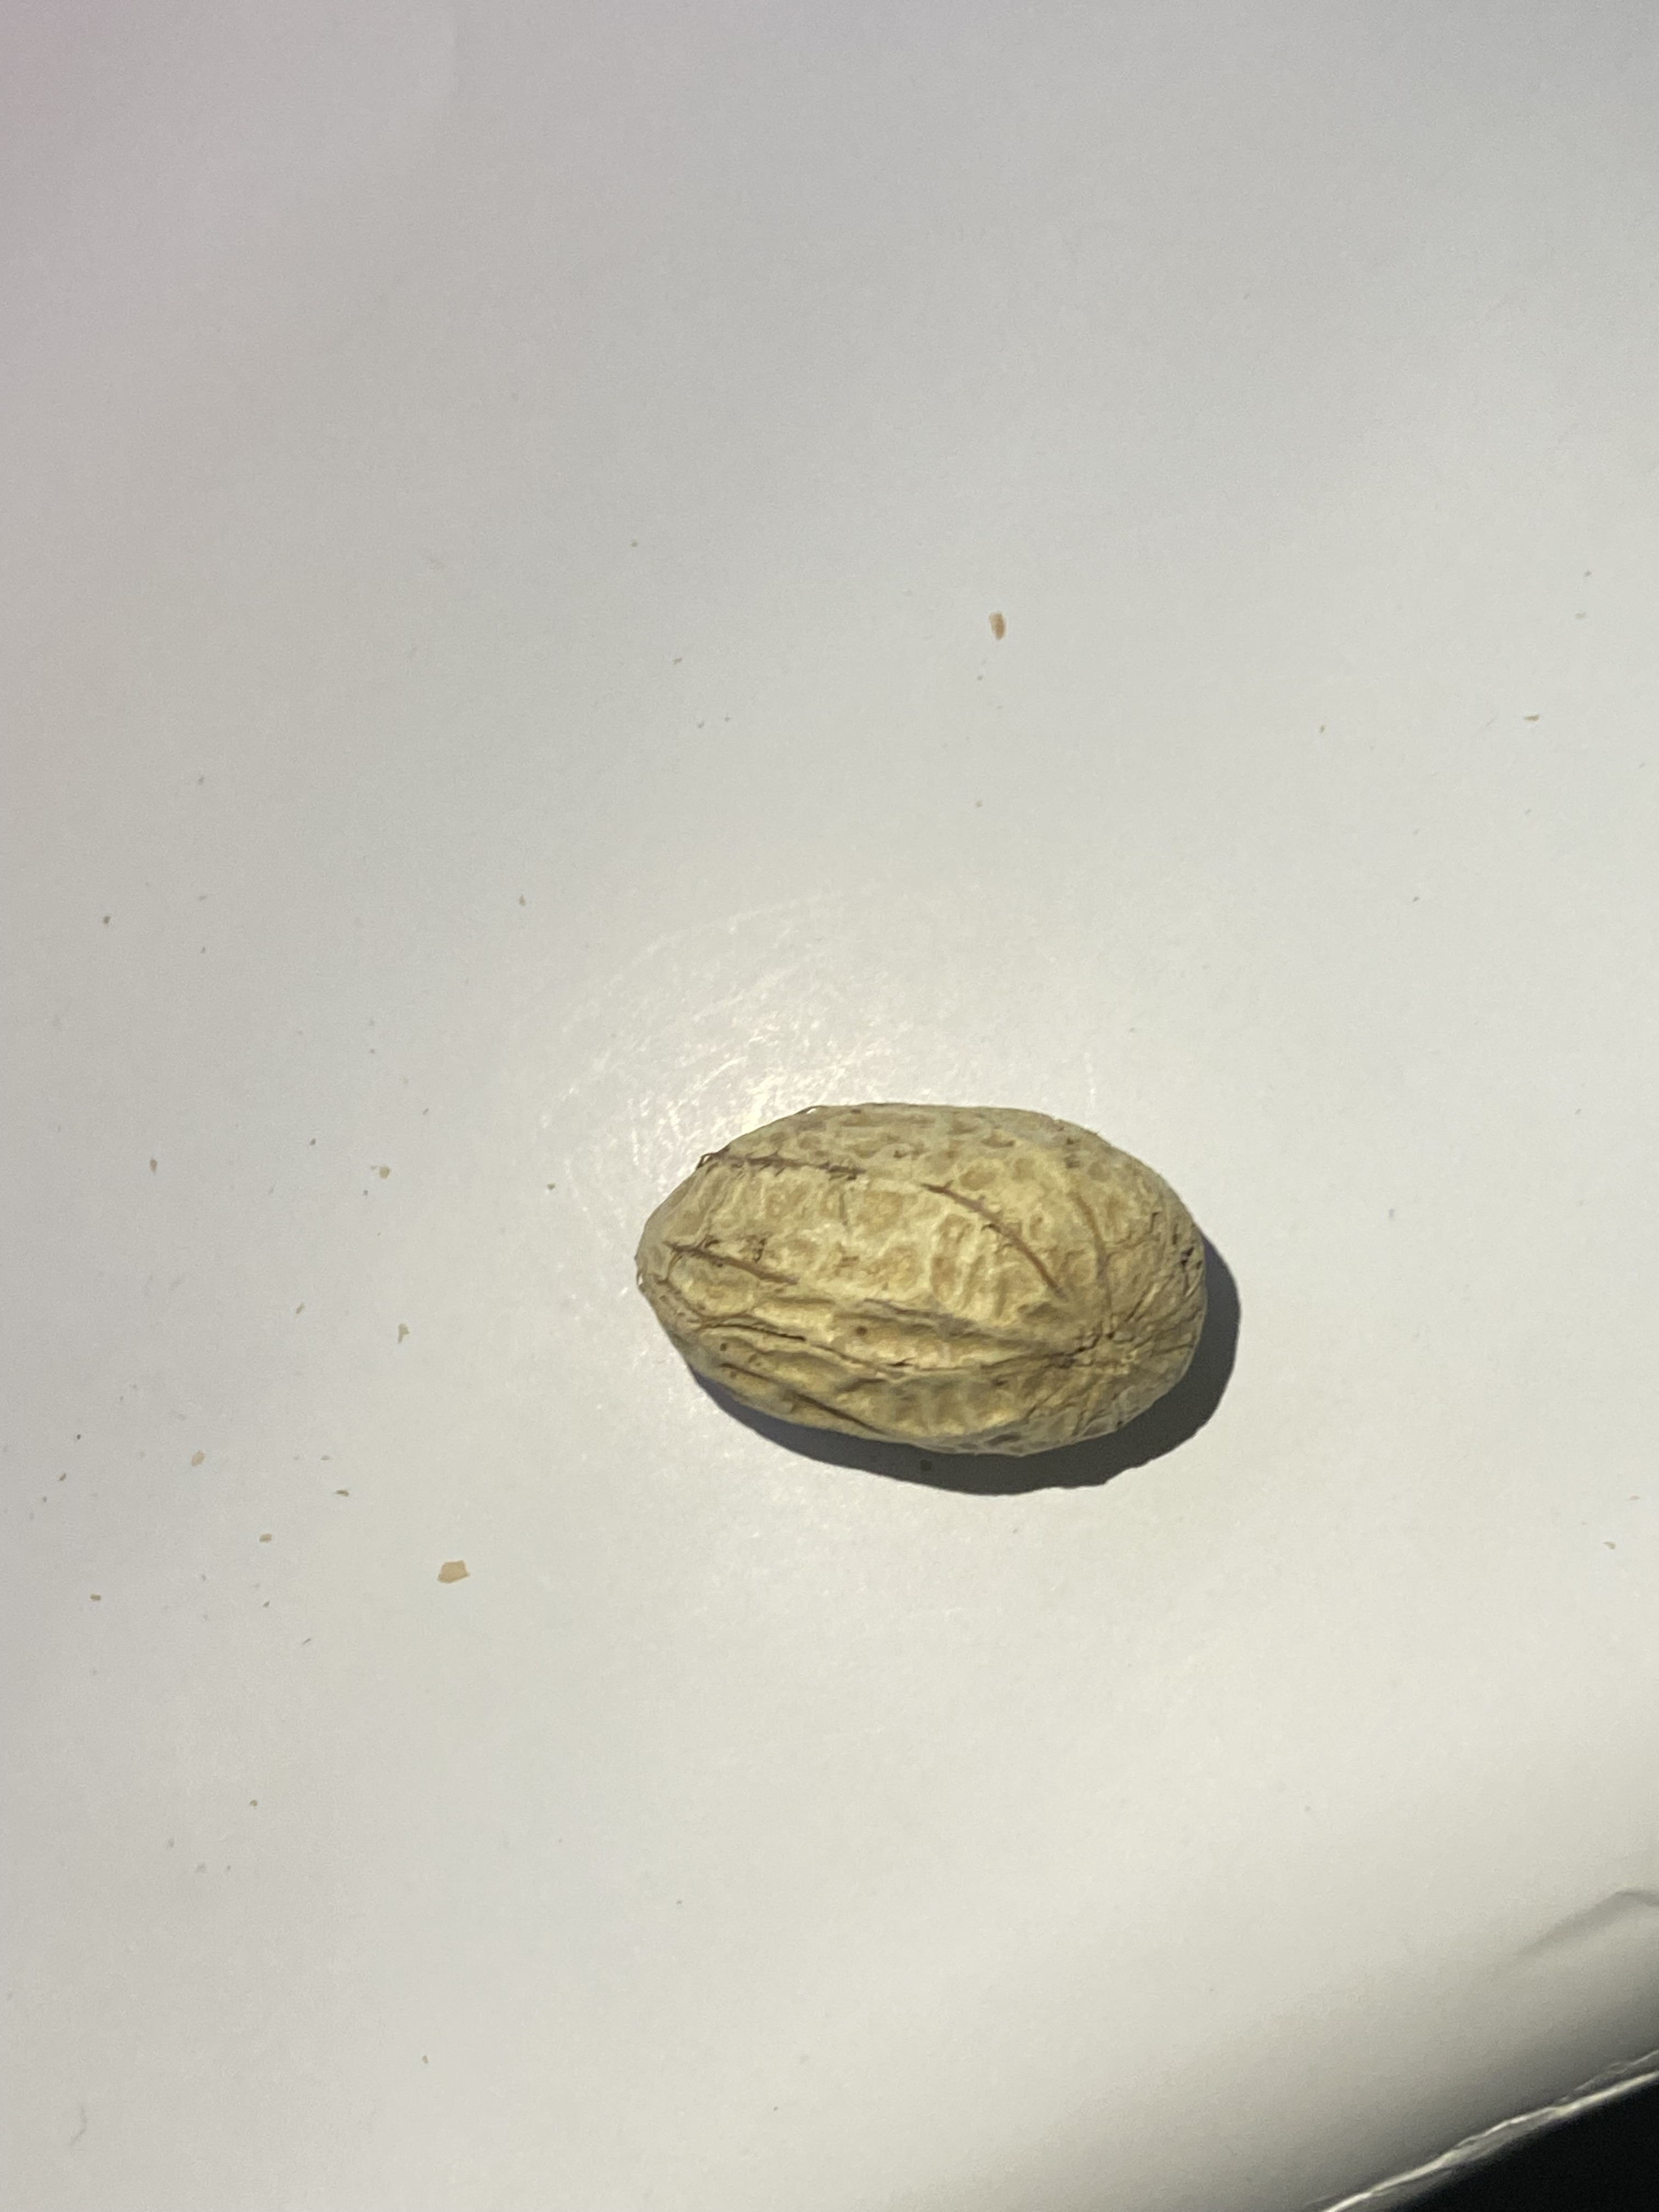kacang1: (619, 1071, 1239, 1489)
